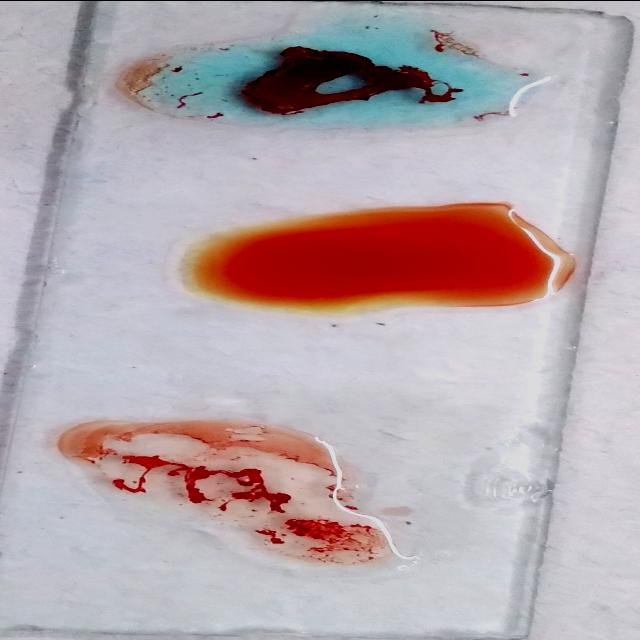A: (130, 22, 536, 126)
D: (93, 429, 394, 563)
